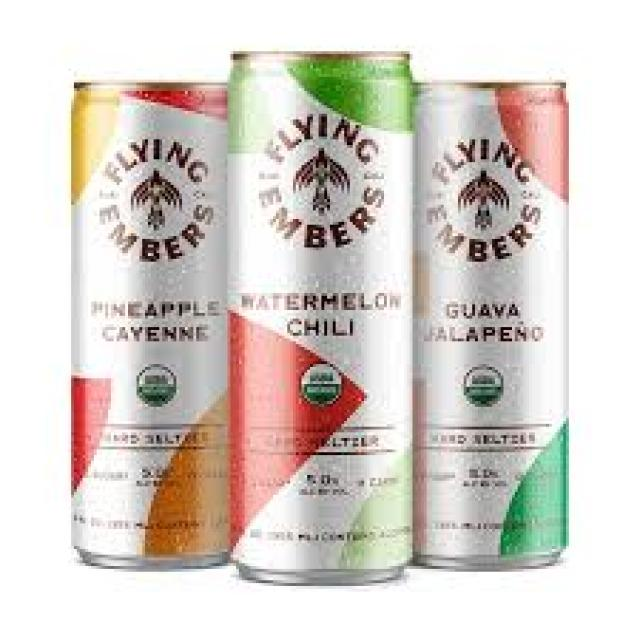Cans: (228, 42, 421, 588), (60, 71, 233, 578), (412, 71, 578, 580)
